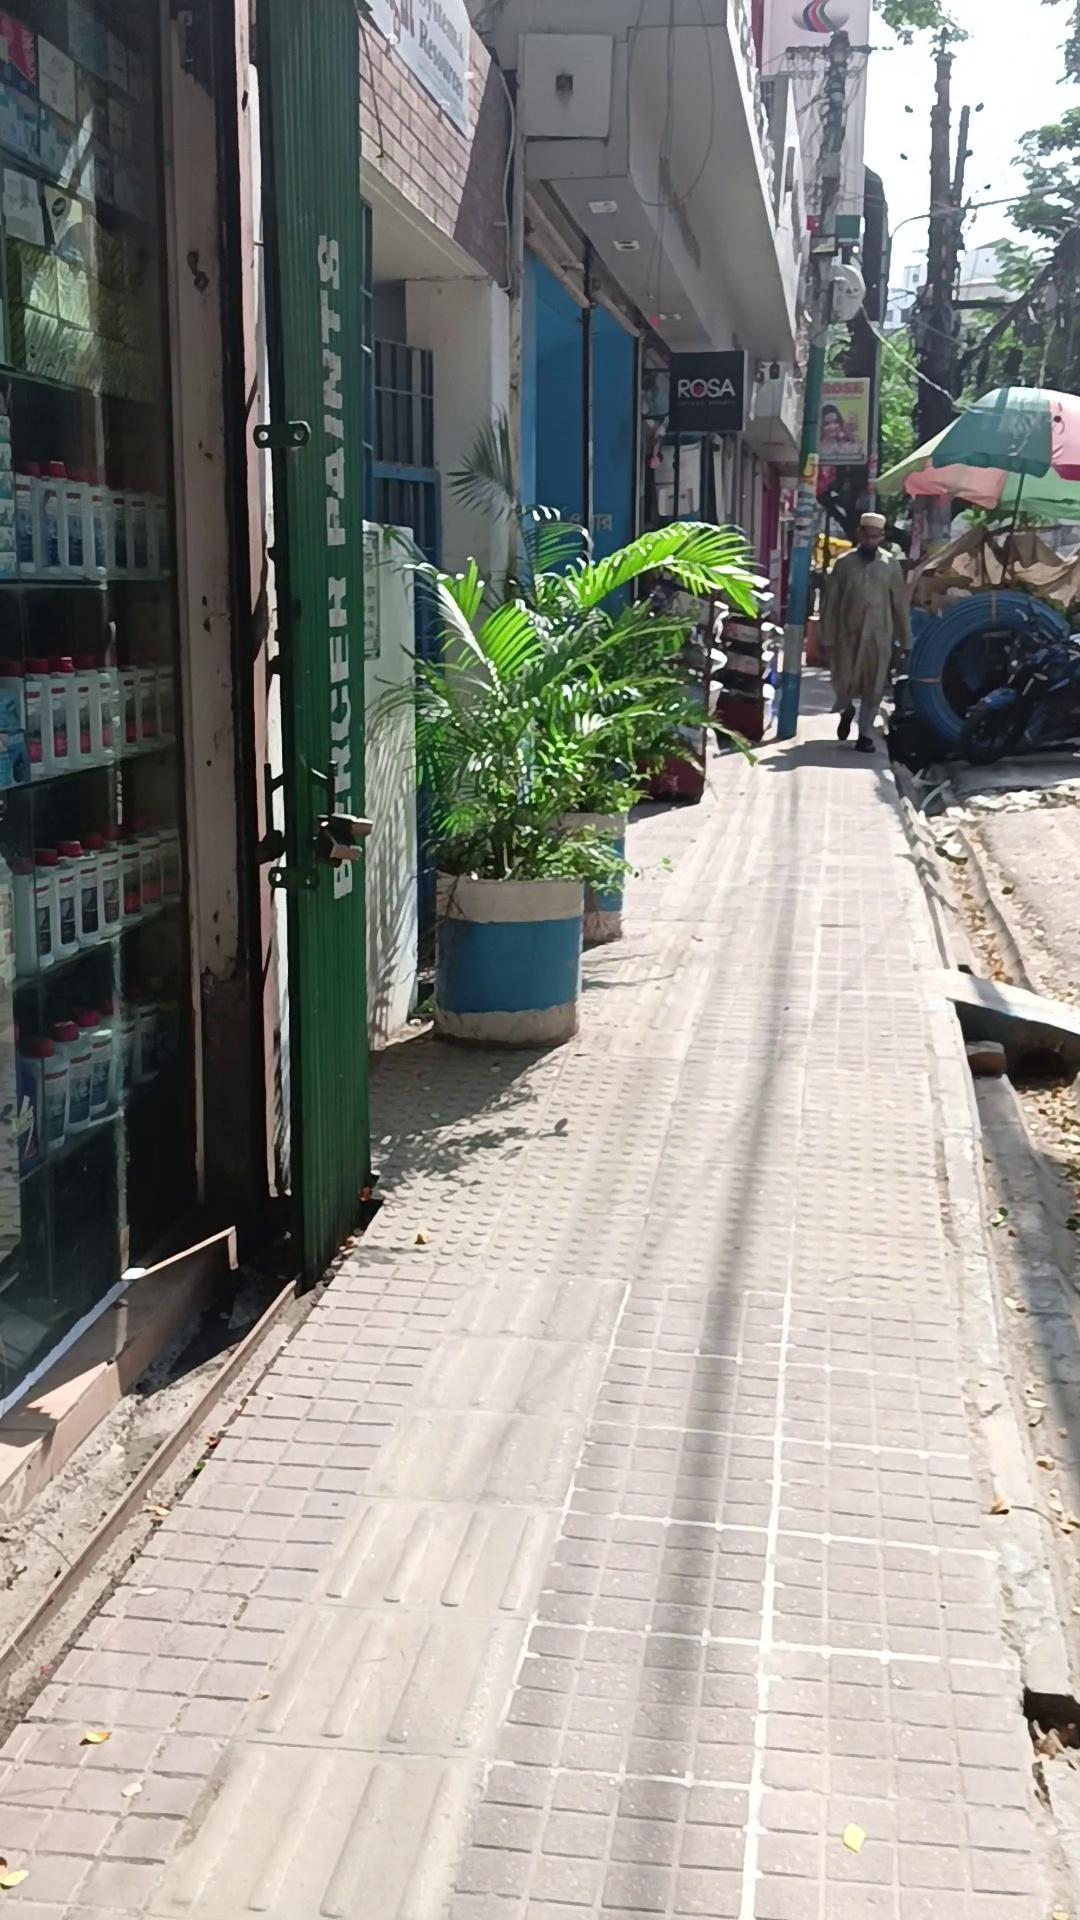Broken-road: (884, 745, 1077, 1912), (1, 1191, 381, 1741)
Curb: (816, 512, 913, 752)
Fallen-tree: (406, 516, 770, 1039)
Garbage: (1, 661, 1072, 1917)
